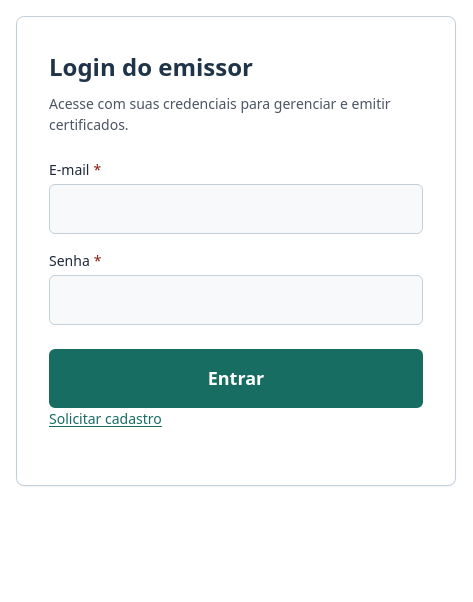
Test case: LoginPage (CT1/CT3) › exibe mensagem padrão em caso de 401 para credenciais inválidas
In the field labelled "E-mail*": (236, 209) [49,184,423,234], type "outro@timbro.test"
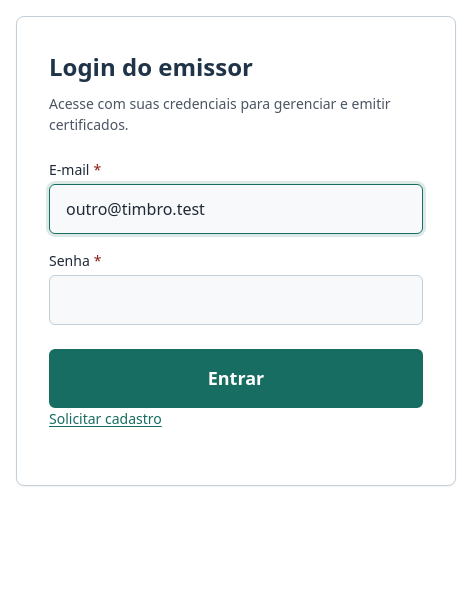
In the password field labelled "Senha*": (236, 300) [49,275,423,325], type "Incorreta123"
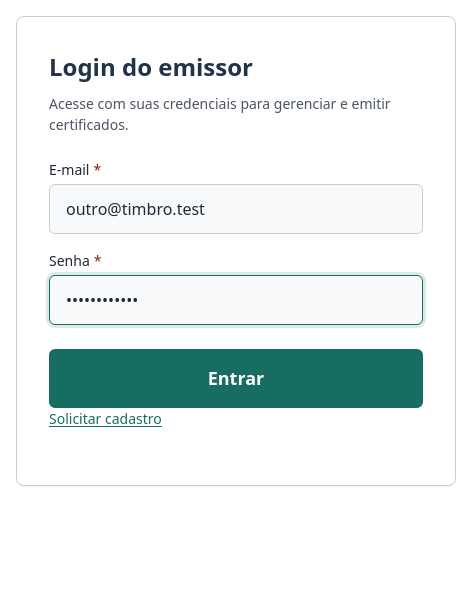
Click the button "Entrar": (236, 378) [49,349,423,408]
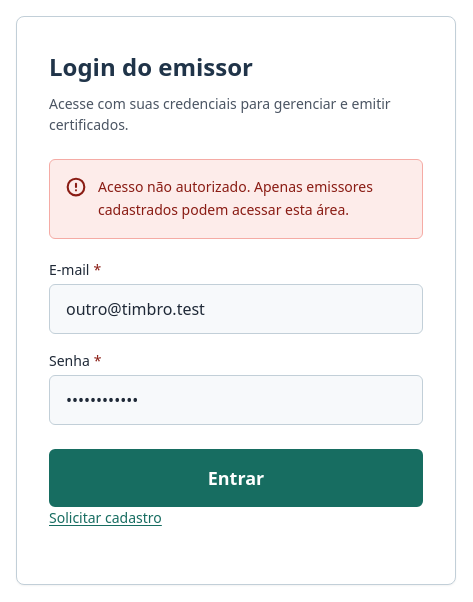
Check: the message reads "Acesso não autorizado. Apenas emissores cadastrados podem acessar esta área.", box [98,177,373,219]
